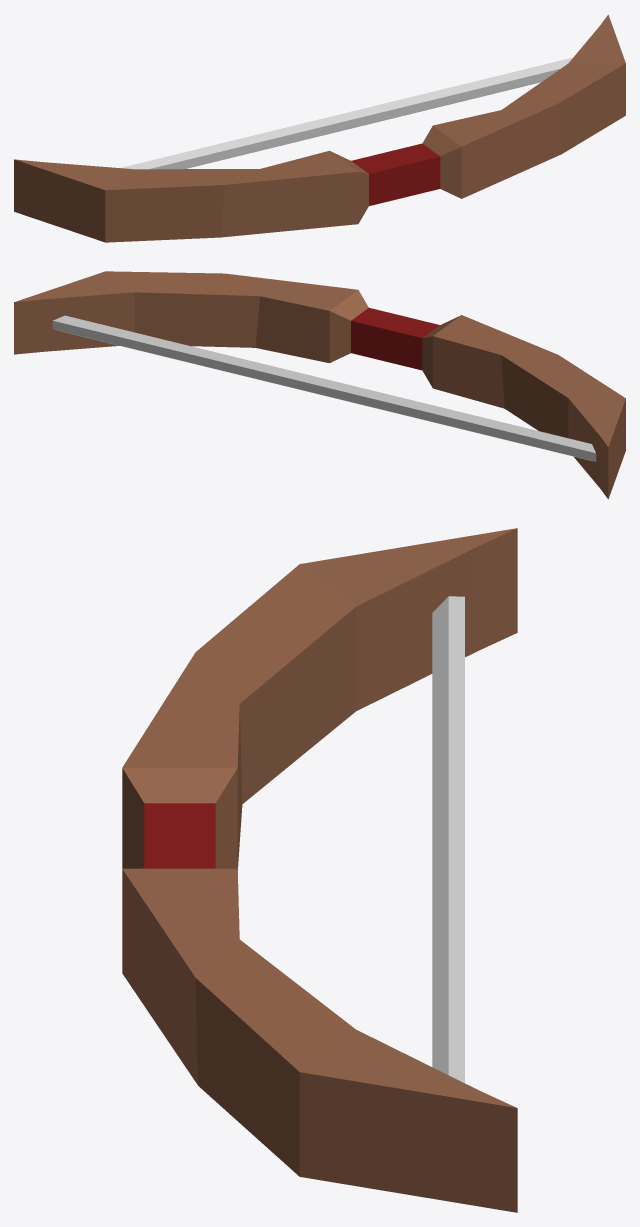
The model's file is Bow Mesh.fbx.
The picture shows the model from 3 angles, top to bottom: view 1: azimuth 30°, elevation 25°; view 2: azimuth 150°, elevation 25°; view 3: azimuth 270°, elevation 25°; orthographic projection. The views are drawn at different scales.
Visible parts, largest first — view 1: Bow Body, Bow Stirng; view 2: Bow Body, Bow Stirng; view 3: Bow Body, Bow Stirng.
Part boxes in pixels (x1,y1,x2,y2): Bow Body: [14, 14, 625, 242]; Bow Stirng: [120, 57, 572, 169]; Bow Body: [14, 271, 625, 499]; Bow Stirng: [52, 315, 596, 461]; Bow Body: [122, 528, 517, 1212]; Bow Stirng: [432, 596, 464, 1083].
Size of the model in its own units: 1805 by 161 by 520.
